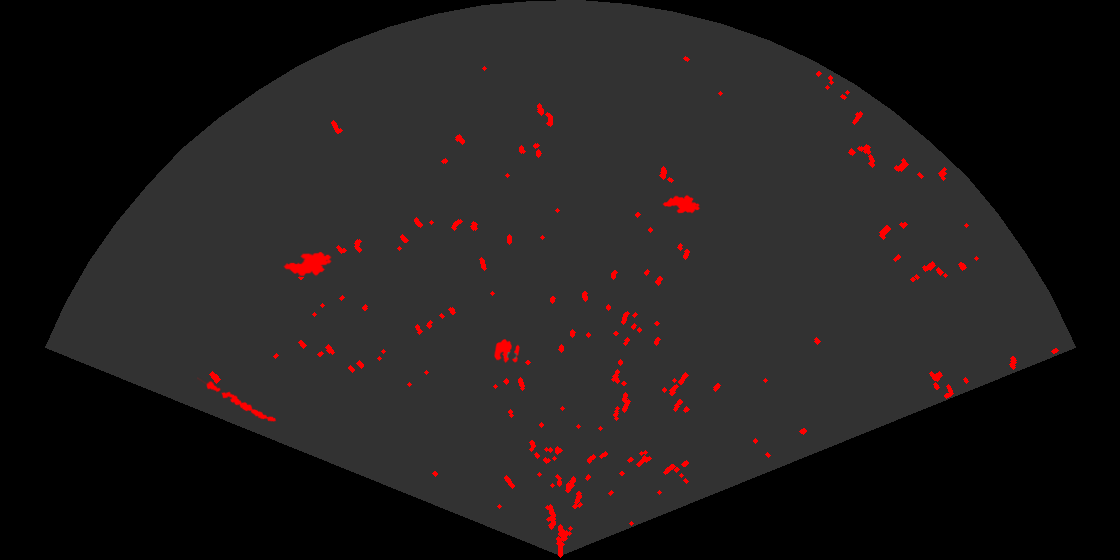AUV: (282, 250, 333, 277), (661, 193, 702, 215)
ball: (493, 338, 521, 365)
chain: (197, 376, 278, 423)
